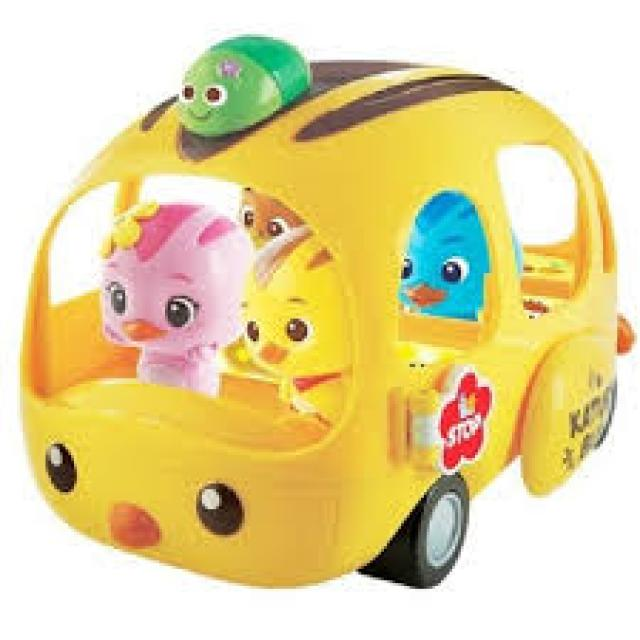Dry: (14, 31, 614, 585)
